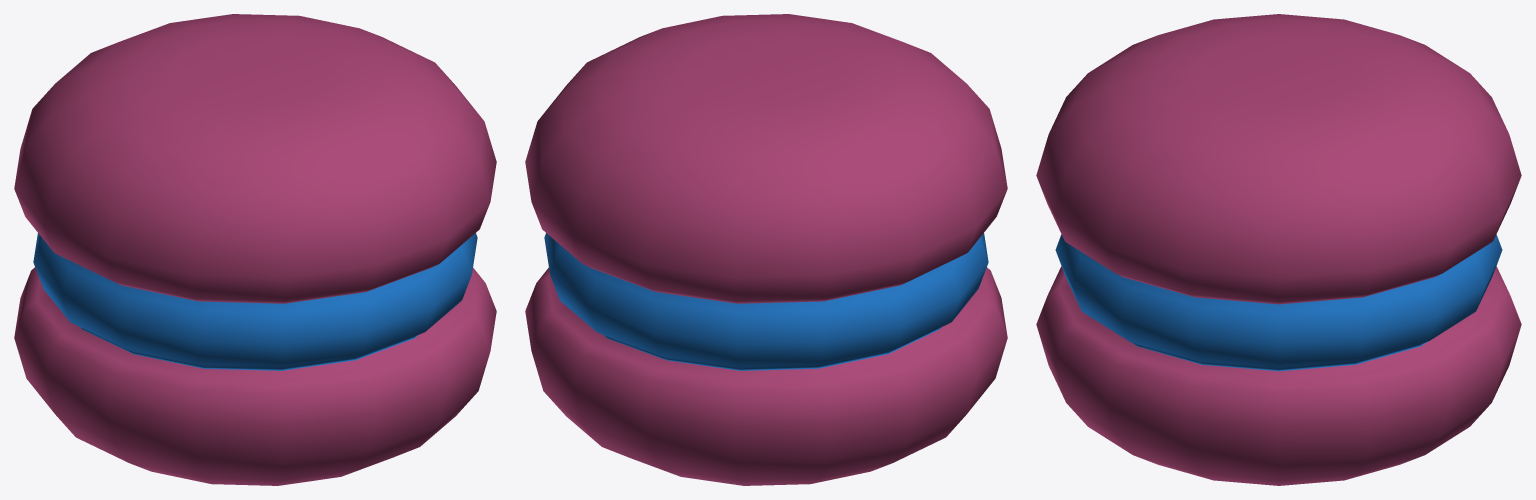
File: Macaroons_1.FBX
The picture shows the model from 3 angles, left to right: view 1: azimuth 30°, elevation 25°; view 2: azimuth 150°, elevation 25°; view 3: azimuth 270°, elevation 25°; orthographic projection.
Parts seen in each view (by area): view 1: Macaroons_1; view 2: Macaroons_1; view 3: Macaroons_1.
Part boxes in pixels (<box>): Macaroons_1: <box>14,14,496,485</box>; Macaroons_1: <box>525,14,1007,485</box>; Macaroons_1: <box>1036,14,1521,485</box>.
Size of the model in its own units: 1016 by 1016 by 831.
